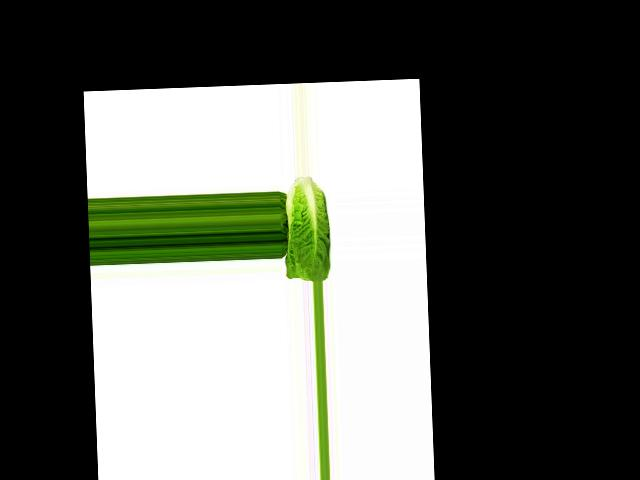lettuce: (284, 175, 338, 283)
